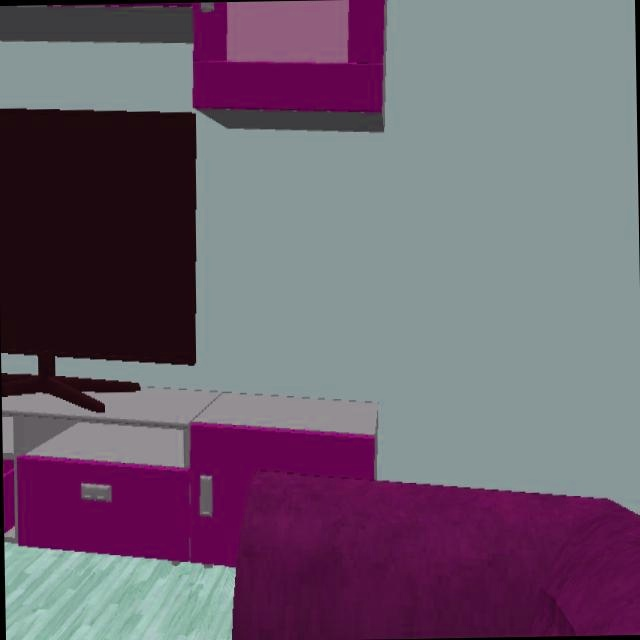cabinet: (1, 390, 379, 569), (0, 2, 385, 132)
monitor: (0, 108, 197, 414)
sofa: (230, 473, 640, 640)
